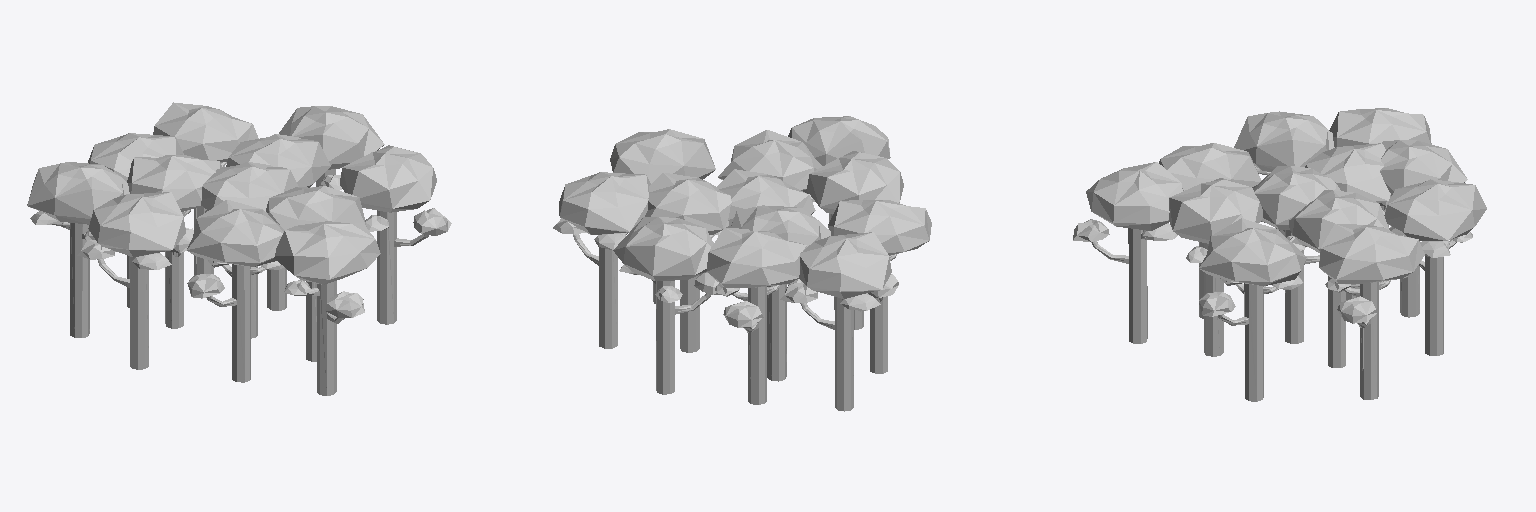
Rendered from jungle_forest.obj.
3 views of the same model, side by side, from view 1: azimuth 30°, elevation 25°; view 2: azimuth 150°, elevation 25°; view 3: azimuth 270°, elevation 25° (orthographic).
Parts seen in each view (by area): view 1: Cylinder.004, Cylinder.003, Cylinder.001, Cylinder.010, Cylinder.011, Cylinder.008, Cylinder.006, Cylinder.007, Cylinder.002, Cylinder.009, Cylinder, Cylinder.005; view 2: Cylinder.011, Cylinder.005, Cylinder.006, Cylinder.007, Cylinder.010, Cylinder.009, Cylinder.008, Cylinder.001, Cylinder.003, Cylinder.002, Cylinder.004, Cylinder; view 3: Cylinder.003, Cylinder.007, Cylinder.004, Cylinder.006, Cylinder.002, Cylinder.009, Cylinder, Cylinder.010, Cylinder.005, Cylinder.001, Cylinder.011, Cylinder.008.
Part boxes in pixels (x1,y1,x2,y2): Cylinder.004: (274, 221, 380, 395); Cylinder.003: (340, 145, 451, 324); Cylinder.001: (187, 200, 284, 382); Cylinder.010: (77, 192, 185, 369); Cylinder.011: (27, 162, 129, 337); Cylinder.008: (127, 154, 221, 328); Cylinder.006: (153, 102, 258, 274); Cylinder.007: (279, 106, 384, 190); Cylinder.002: (266, 186, 366, 361); Cylinder.009: (226, 134, 330, 310); Cylinder: (201, 162, 298, 338); Cylinder.005: (88, 133, 183, 307); Cylinder.011: (780, 232, 891, 411); Cylinder.005: (706, 228, 806, 404); Cylinder.006: (613, 217, 719, 394); Cylinder.007: (553, 172, 650, 348); Cylinder.010: (828, 200, 931, 373); Cylinder.009: (645, 173, 732, 352); Cylinder.008: (731, 205, 830, 381); Cylinder.001: (807, 151, 903, 329); Cylinder.003: (610, 129, 715, 303); Cylinder.002: (718, 130, 822, 201); Cylinder.004: (788, 116, 890, 221); Cylinder: (717, 169, 815, 227); Cylinder.003: (1199, 218, 1306, 401); Cylinder.007: (1319, 224, 1424, 399); Cylinder.004: (1073, 162, 1182, 343); Cylinder.006: (1384, 179, 1486, 355); Cylinder.002: (1169, 178, 1262, 356); Cylinder.009: (1289, 190, 1389, 367); Cylinder: (1253, 166, 1340, 343); Cylinder.010: (1234, 111, 1334, 235); Cylinder.005: (1380, 140, 1467, 317); Cylinder.001: (1159, 143, 1261, 318); Cylinder.011: (1329, 108, 1431, 281); Cylinder.008: (1305, 143, 1391, 299).
Size of the model in its own units: 1.09 by 0.5099 by 1.14.